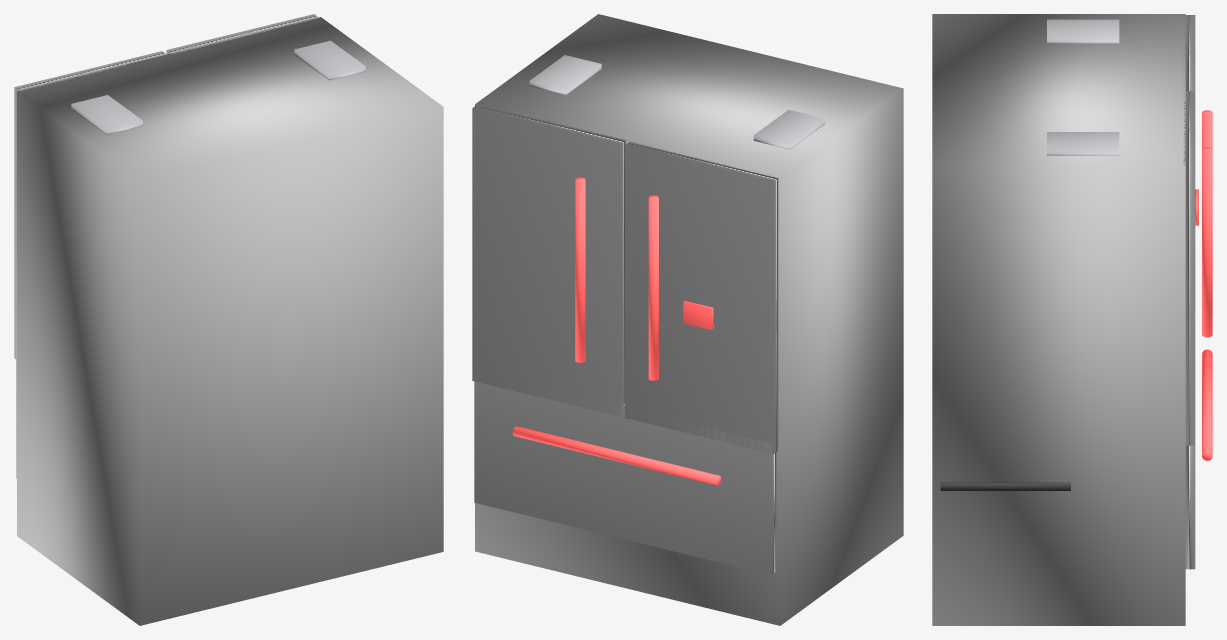
File: fridge.glb
3 renders of one model, left to right at view 1: azimuth 30°, elevation 25°; view 2: azimuth 150°, elevation 25°; view 3: azimuth 270°, elevation 25°, orthographic. The views are drawn at different scales.
Parts seen in each view (by area): view 1: cabinet, door_L, hinge_L, hinge_R, door_R; view 2: cabinet, door_R, door_L, freezer, handle_fz, handle_L, handle_R, hinge_R, hinge_L, dispense_btn; view 3: cabinet, door_R, handle_R, hinge_L, hinge_R, freezer, handle_fz, door_L, louver_0, louver_2, louver_1, handle_L.
Boxes of the visible parts, bbox=[...] form: cabinet: bbox=[17, 17, 443, 625]; door_L: bbox=[14, 51, 166, 359]; hinge_L: bbox=[71, 95, 142, 134]; hinge_R: bbox=[294, 40, 365, 80]; door_R: bbox=[166, 14, 318, 54]; cabinet: bbox=[475, 14, 903, 625]; door_R: bbox=[472, 105, 626, 416]; door_L: bbox=[625, 141, 778, 454]; freezer: bbox=[474, 381, 776, 574]; handle_fz: bbox=[512, 426, 721, 485]; handle_L: bbox=[648, 195, 658, 380]; handle_R: bbox=[575, 177, 585, 362]; hinge_R: bbox=[529, 55, 601, 94]; hinge_L: bbox=[753, 109, 825, 149]; dispense_btn: bbox=[683, 300, 713, 329]; cabinet: bbox=[932, 14, 1185, 625]; door_R: bbox=[1183, 91, 1195, 445]; handle_R: bbox=[1202, 147, 1212, 337]; hinge_L: bbox=[1047, 19, 1119, 43]; hinge_R: bbox=[1047, 132, 1119, 155]; freezer: bbox=[1185, 445, 1195, 569]; handle_fz: bbox=[1202, 349, 1212, 460]; door_L: bbox=[1183, 15, 1195, 91]; louver_0: bbox=[998, 482, 1070, 490]; louver_2: bbox=[940, 482, 1012, 490]; louver_1: bbox=[969, 482, 1041, 490]; handle_L: bbox=[1202, 110, 1212, 148].
Size of what is drawn, in the model's own units: 1.51 by 2.13 by 1.16.
